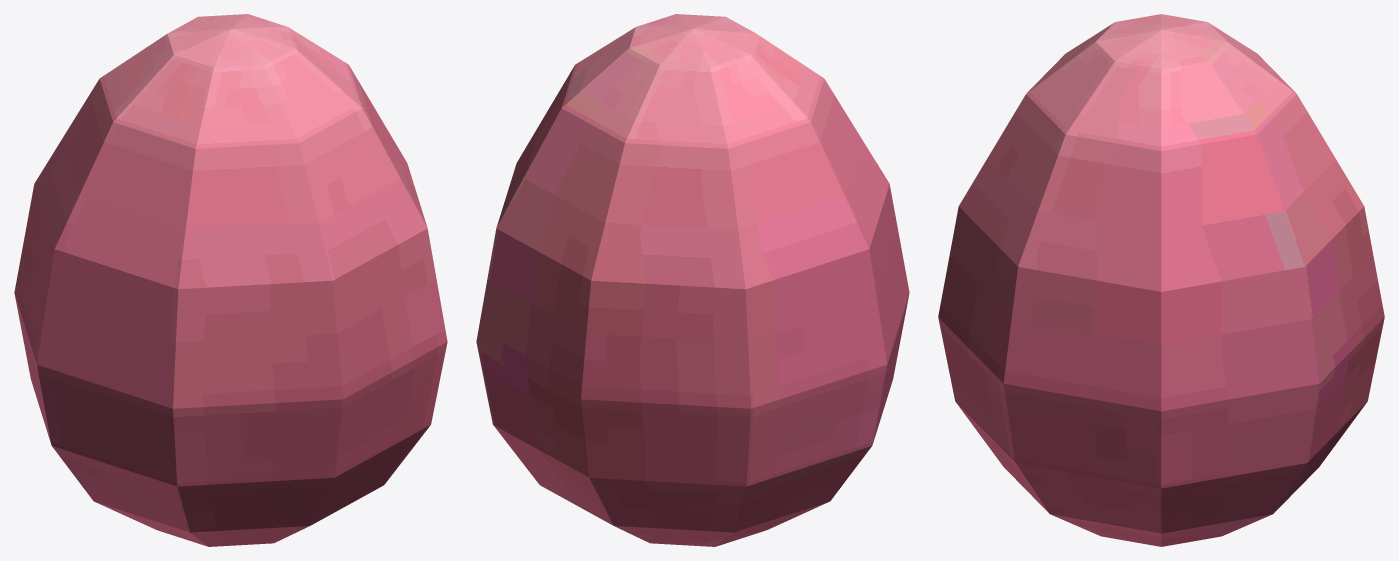
File: item_egg_easter_red.glb
3 renders of one model, left to right at view 1: azimuth 30°, elevation 25°; view 2: azimuth 150°, elevation 25°; view 3: azimuth 270°, elevation 25°, orthographic.
Visible parts, largest first — view 1: Egg_B; view 2: Egg_B; view 3: Egg_B.
Boxes of the visible parts, box(x1,y1,x2,y2) form: Egg_B: box(14, 14, 447, 546); Egg_B: box(476, 14, 909, 546); Egg_B: box(938, 14, 1384, 546).
Size of the model in its own units: 0.2454 by 0.3009 by 0.2454.
Materials: 1 (1 with a texture image).
